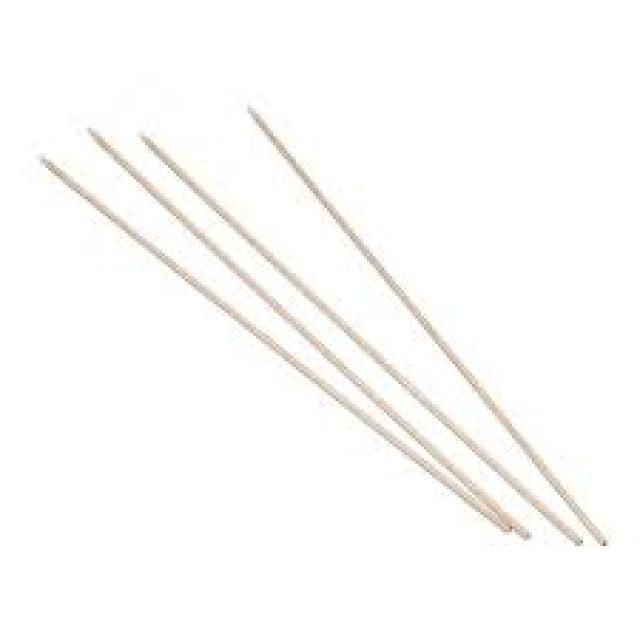stick: (138, 131, 586, 551), (40, 155, 511, 532), (249, 105, 606, 544)
